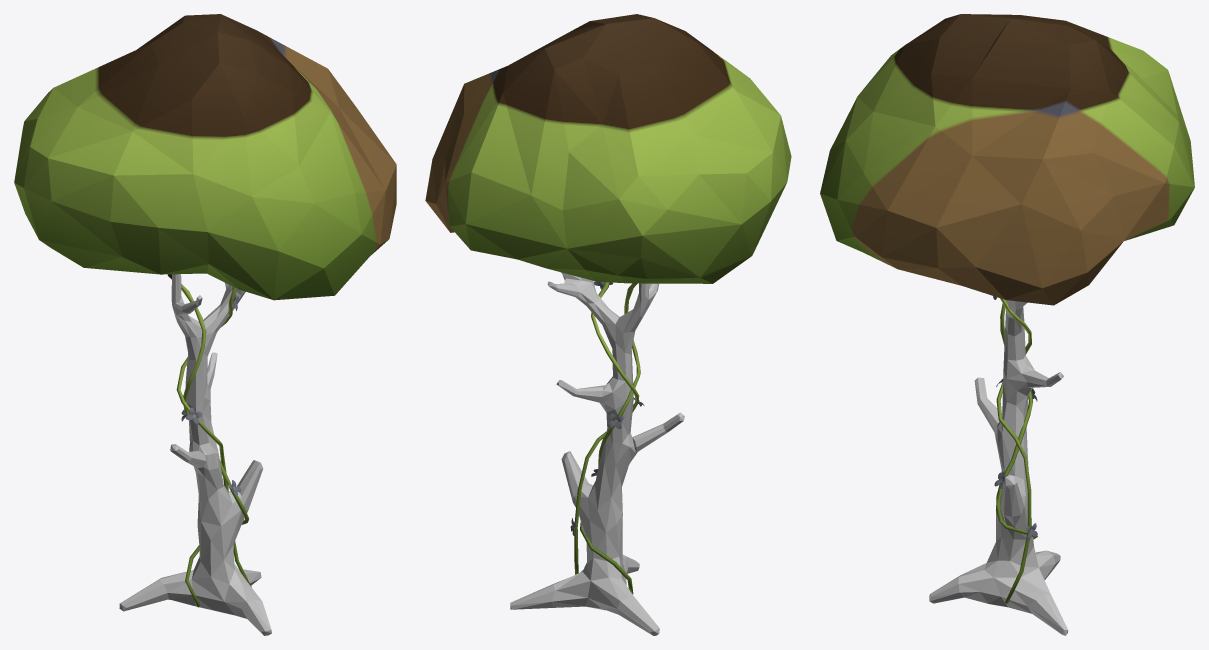
The model's file is Tree_07.fbx.
The picture shows the model from 3 angles, left to right: view 1: azimuth 30°, elevation 25°; view 2: azimuth 150°, elevation 25°; view 3: azimuth 270°, elevation 25°; orthographic projection.
Parts seen in each view (by area): view 1: Tree_07; view 2: Tree_07; view 3: Tree_07.
Part boxes in pixels (x1=…): Tree_07: x1=14, y1=14, x2=396, y2=635; Tree_07: x1=425, y1=14, x2=791, y2=635; Tree_07: x1=820, y1=14, x2=1194, y2=635.
Bounding box in the file's own units: 3.64 × 6.08 × 3.54.
